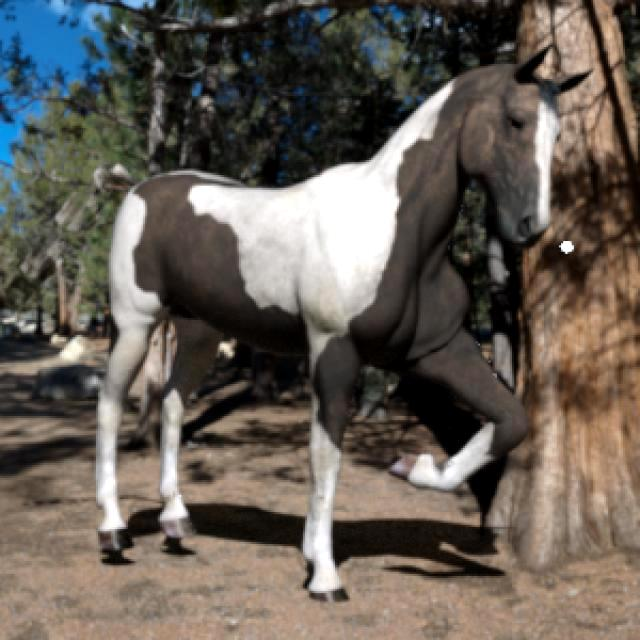horse: (98, 50, 588, 601)
